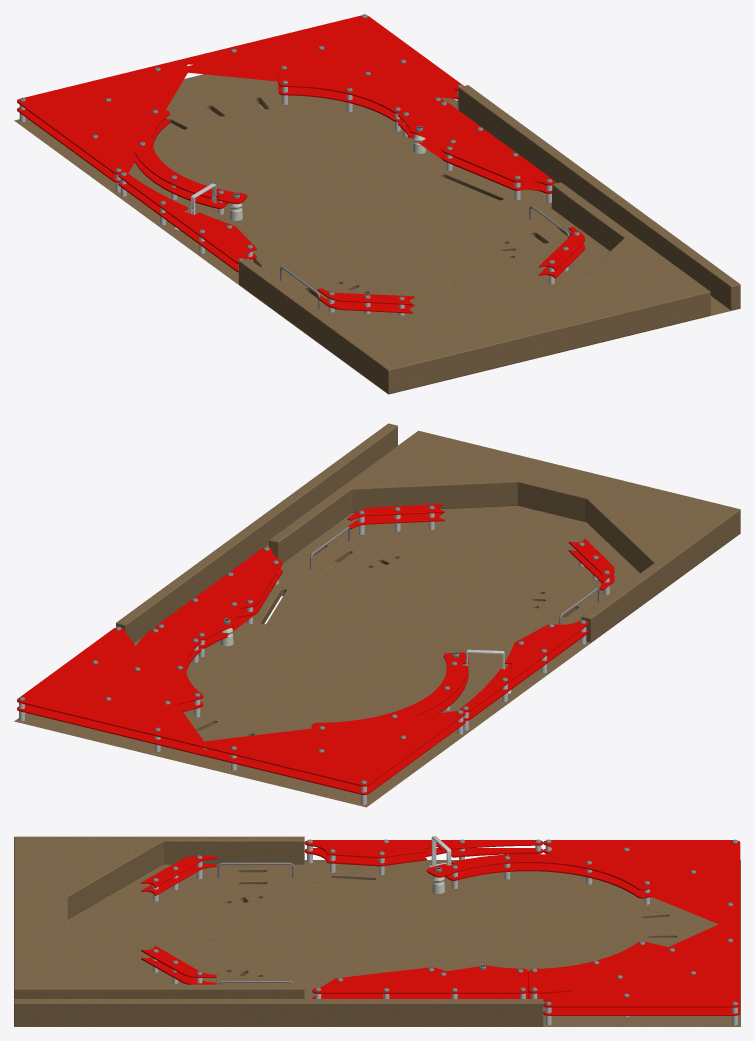
Rendered from playfield.fbx.
3 views of the same model, one above another, from view 1: azimuth 30°, elevation 25°; view 2: azimuth 150°, elevation 25°; view 3: azimuth 270°, elevation 25° (orthographic). The views are drawn at different scales.
Visible parts, largest first — view 1: playfield; view 2: playfield; view 3: playfield.
Part boxes in pixels (bbox=[...]): playfield: bbox=[14, 14, 740, 394]; playfield: bbox=[14, 423, 740, 807]; playfield: bbox=[14, 836, 740, 1026].
Size of the model in its own units: 0.53 by 0.06 by 0.975.
